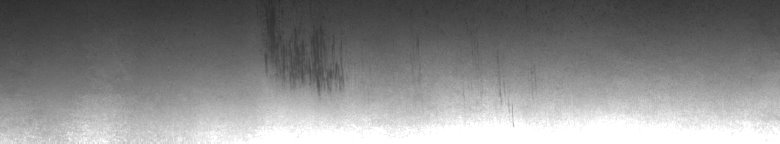ka: (260, 11, 347, 96)
